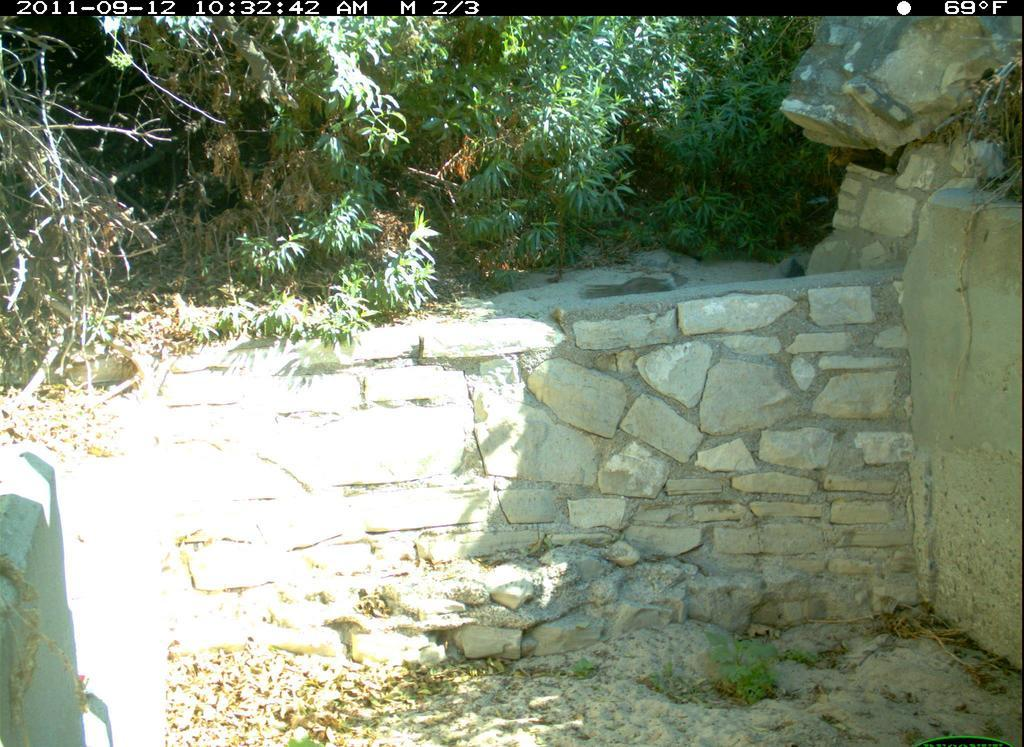squirrel: (578, 271, 695, 302)
